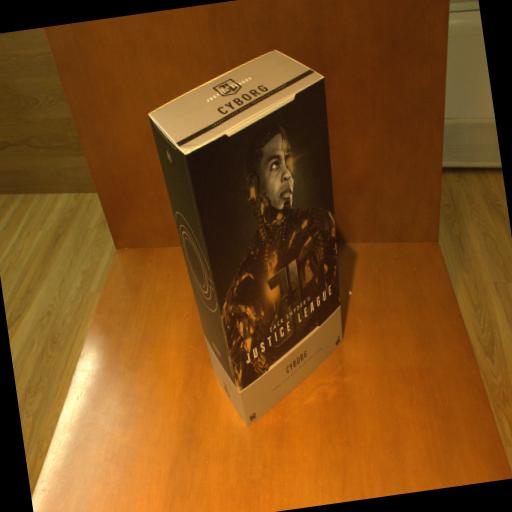Cyborg: (142, 42, 370, 436)
